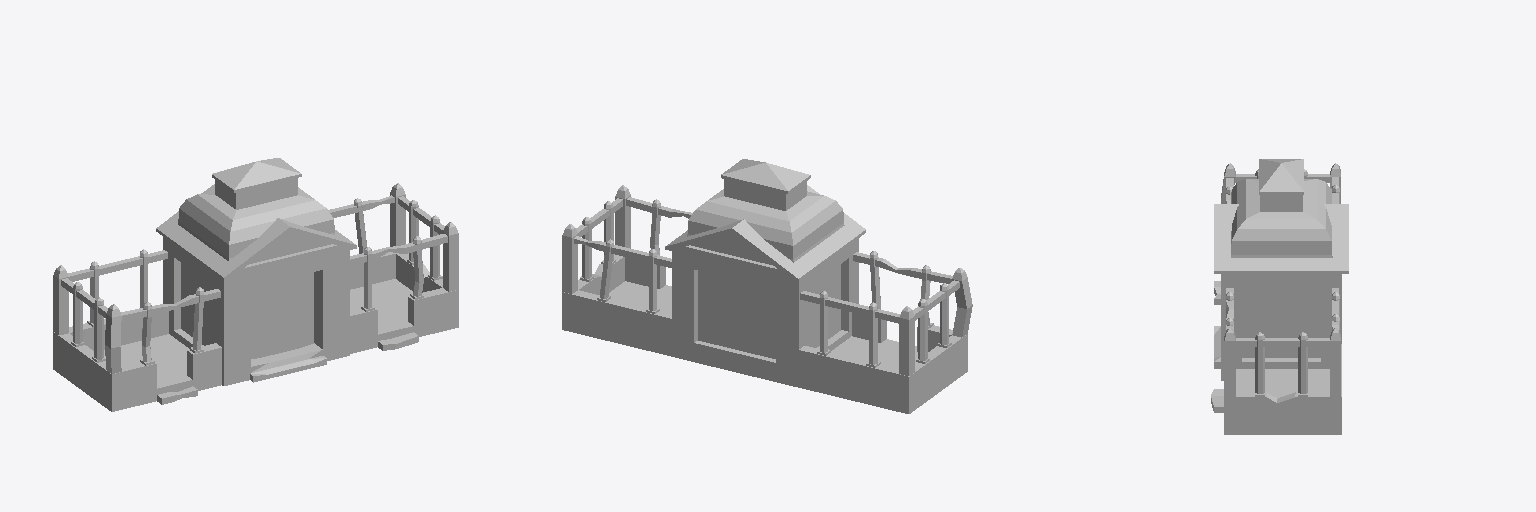
Rendered from BG_Chapel.obj.
The picture shows the model from 3 angles: view 1: azimuth 30°, elevation 25°; view 2: azimuth 150°, elevation 25°; view 3: azimuth 270°, elevation 25°; orthographic projection.
Visible parts, largest first — view 1: Chapel; view 2: Chapel; view 3: Chapel.
Boxes of the visible parts, x1=… form: Chapel: x1=53, y1=158, x2=458, y2=411; Chapel: x1=562, y1=159, x2=972, y2=413; Chapel: x1=1211, y1=159, x2=1348, y2=434.
Size of the model in its own units: 116 by 59.56 by 39.85.